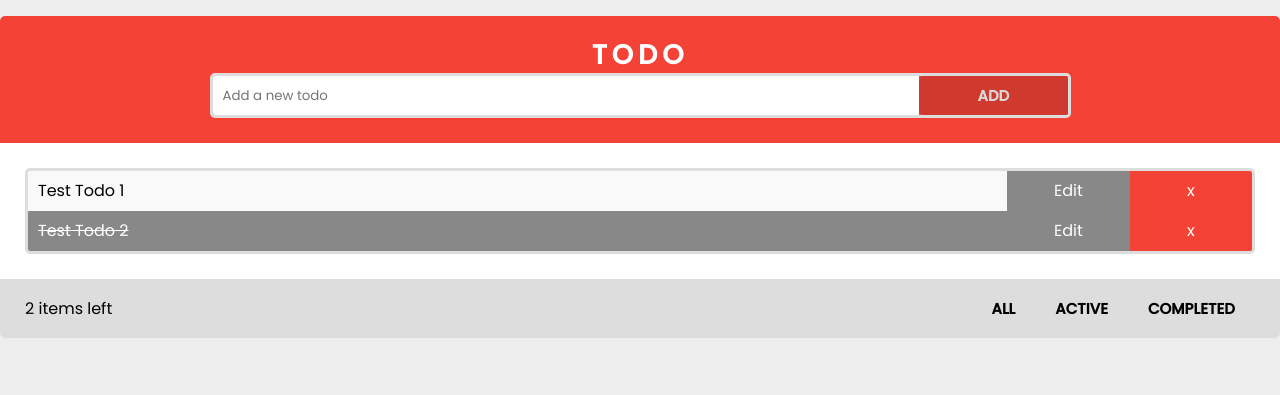
Test case: TodoComp › adds a new todo
Type "New Todo" into the field with placeholder "Add a new todo" at (566, 96), box [212,76,919,115]
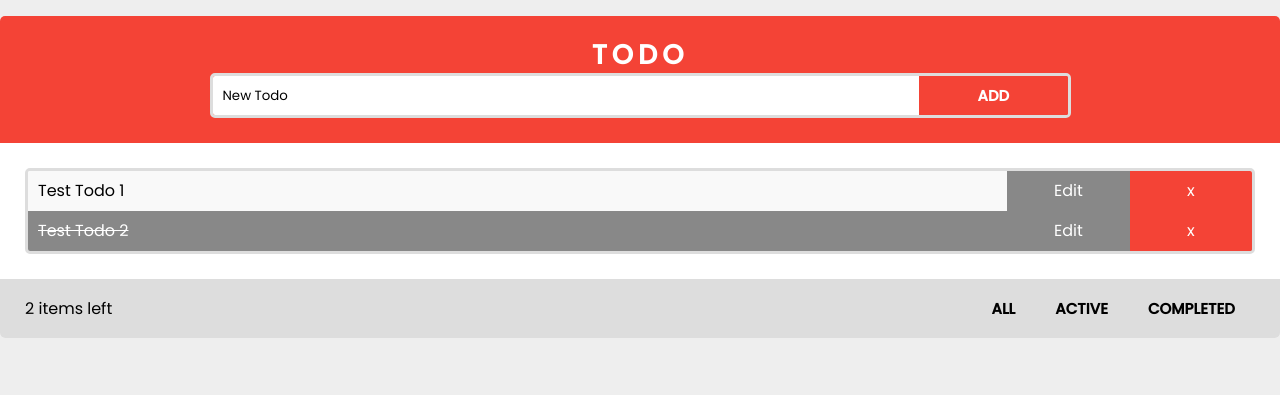
Click the button "Add" at (993, 96), box [919,76,1068,115]
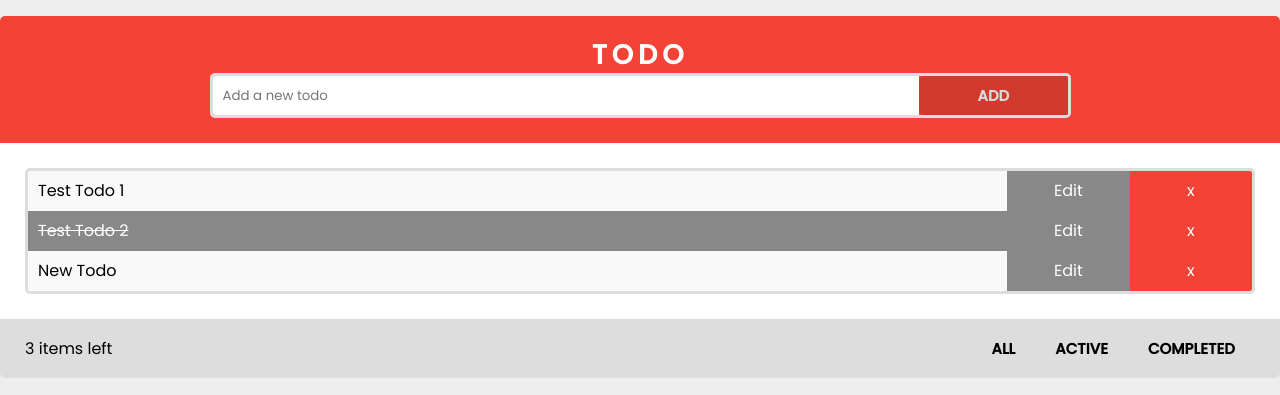
Now the text "New Todo" is shown, box [38,259,116,282]
